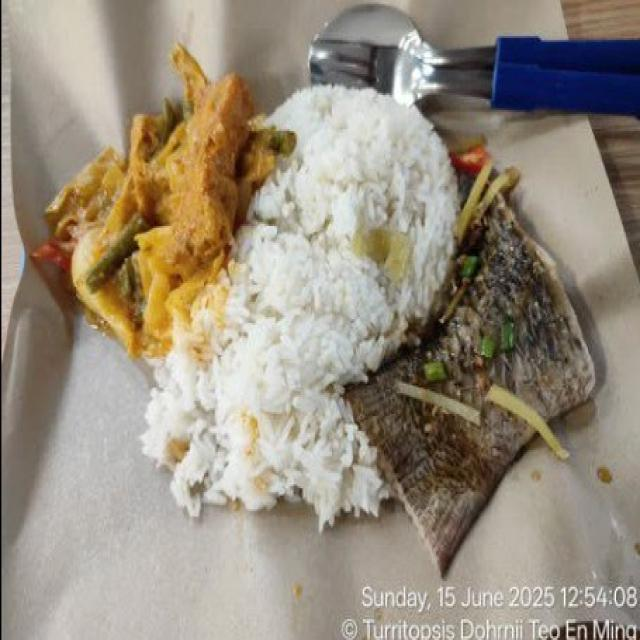Fish: (346, 196, 594, 572)
Non green veg: (37, 116, 149, 355)
Rice: (141, 85, 457, 528)
Tofu: (165, 74, 252, 277)
